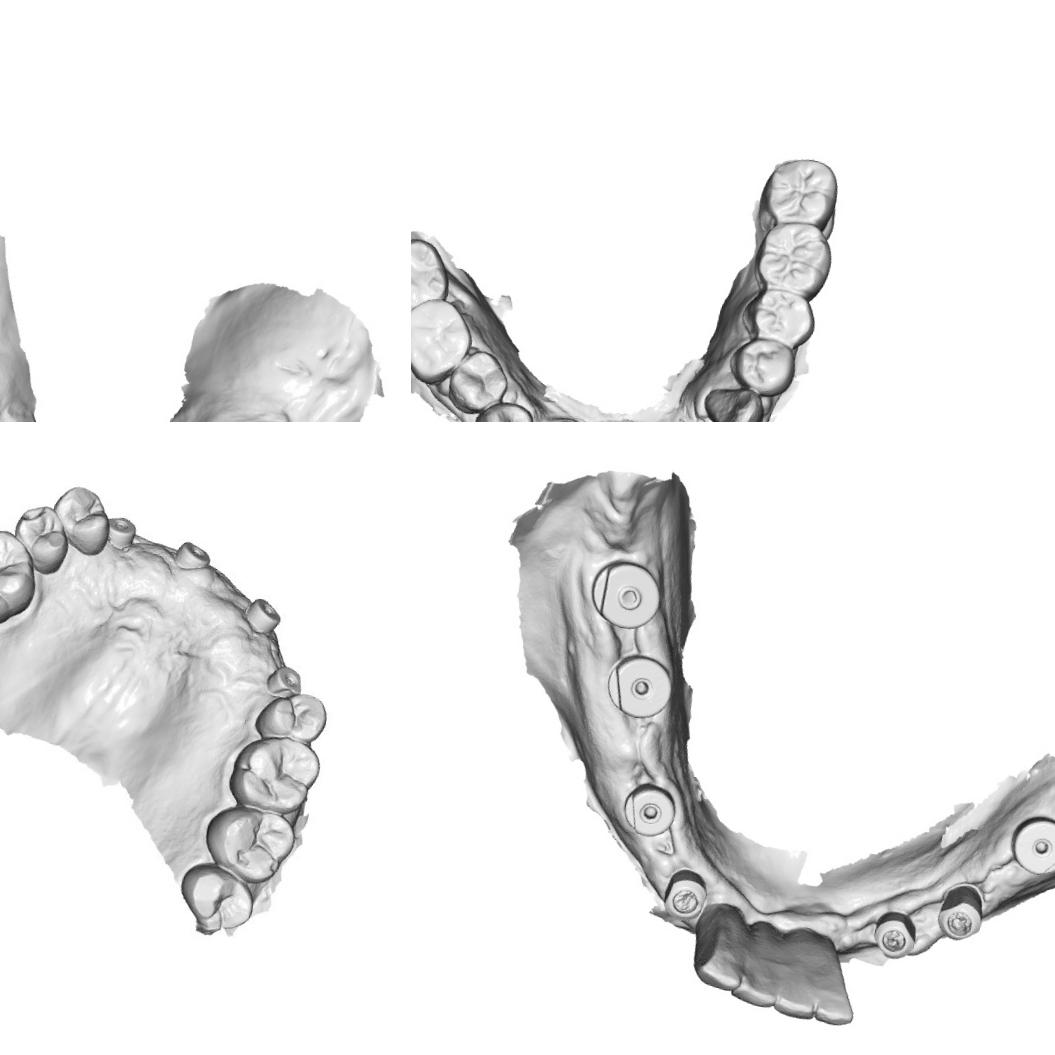canine: (695, 380, 766, 422)
implant: (582, 549, 664, 642), (600, 648, 678, 724), (616, 775, 683, 843), (932, 879, 989, 945), (1005, 809, 1055, 881), (868, 906, 924, 964), (658, 864, 708, 924), (238, 590, 289, 636), (168, 532, 215, 574), (265, 661, 306, 697), (104, 511, 139, 551)
incisor: (688, 906, 752, 995), (726, 944, 784, 1015), (808, 960, 865, 1030), (769, 968, 824, 1024)
molar: (223, 724, 327, 821), (196, 796, 300, 889), (171, 856, 258, 941), (758, 150, 844, 234), (751, 213, 833, 298), (411, 292, 478, 391), (0, 520, 46, 633), (411, 230, 455, 321)
premolar: (44, 479, 118, 559), (5, 498, 76, 579), (723, 334, 804, 402), (440, 345, 512, 420), (744, 282, 822, 348), (254, 685, 332, 747), (468, 395, 536, 422)
